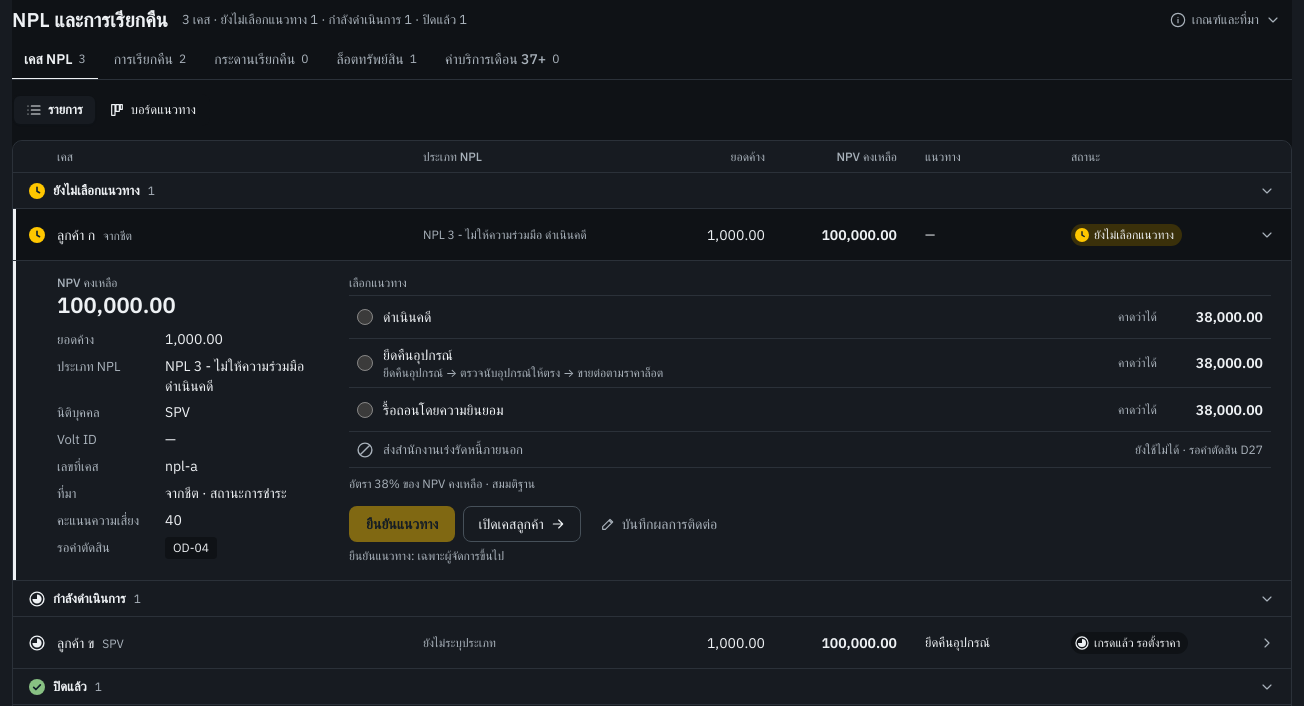
Test: NPL cases (design E glyph list) › gates "ย้ายแนวทาง…" on an open path to managers, with its reason
Click the button "ลูกค้า ข".
click(76, 642)  # box left=13, top=617, right=1291, bottom=669
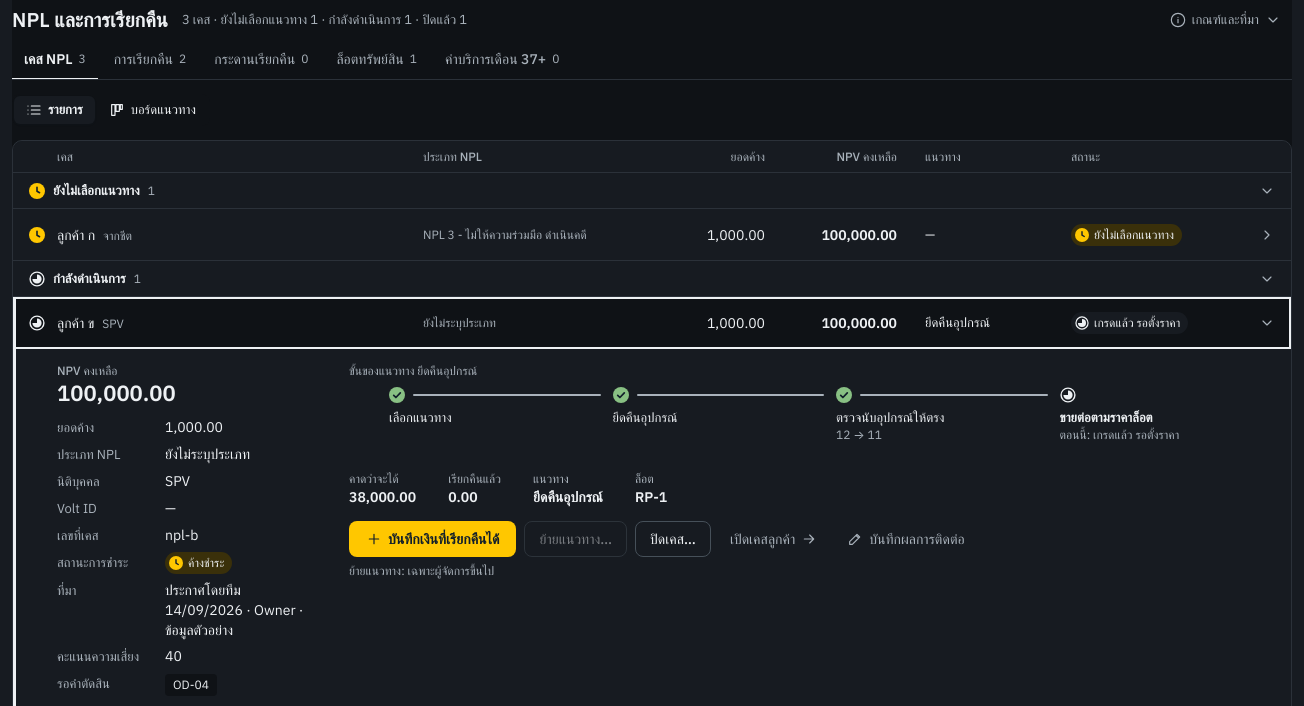
Expected: the button "ย้ายแนวทาง…" is disabled, left=524, top=521, right=627, bottom=557
Expected: the text "ย้ายแนวทาง: เฉพาะผู้จัดการขึ้นไป" is shown, left=349, top=563, right=494, bottom=578
